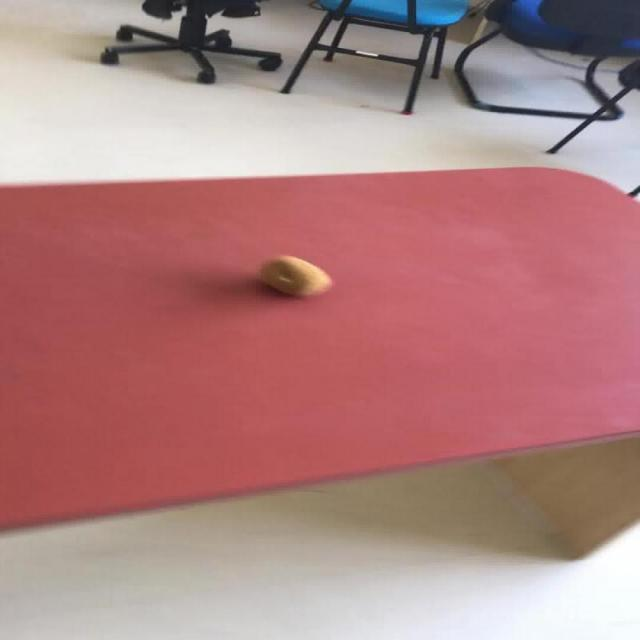Kiwi: (258, 254, 332, 297)
